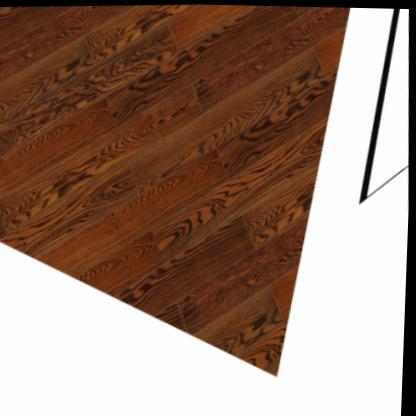Wooden floor: (0, 4, 351, 376)
